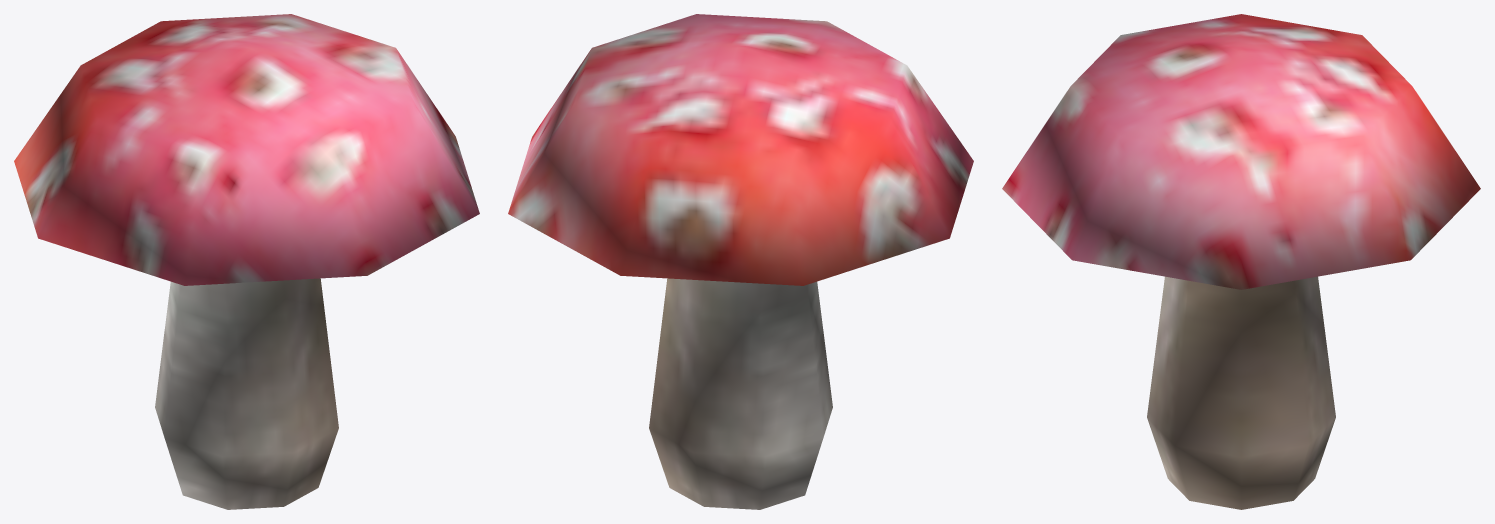
The model's file is mushroom1.fbx.
3 views of the same model, side by side, from view 1: azimuth 30°, elevation 25°; view 2: azimuth 150°, elevation 25°; view 3: azimuth 270°, elevation 25° (orthographic).
Parts seen in each view (by area): view 1: mushroom; view 2: mushroom; view 3: mushroom.
Part boxes in pixels (x1,y1,x2,y2): mushroom: (14, 14, 479, 509); mushroom: (508, 14, 973, 509); mushroom: (1002, 14, 1480, 509).
Bounding box in the file's own units: 0.4679 × 0.4613 × 0.4679.
